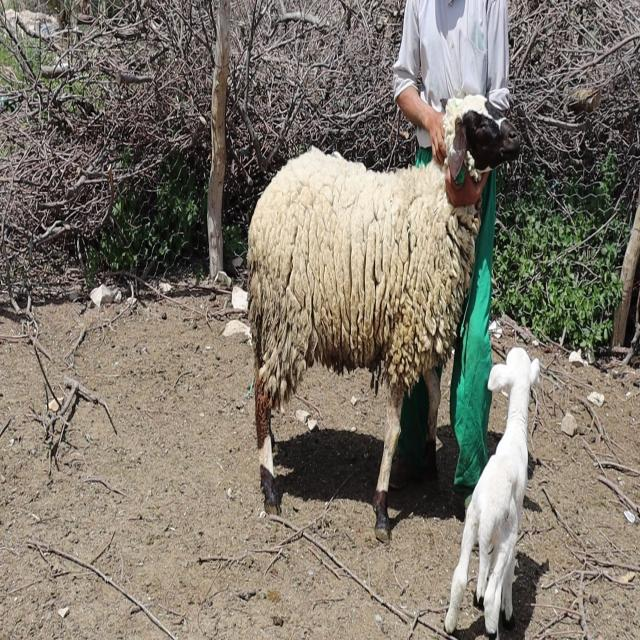Score_5: (247, 95, 519, 542)
